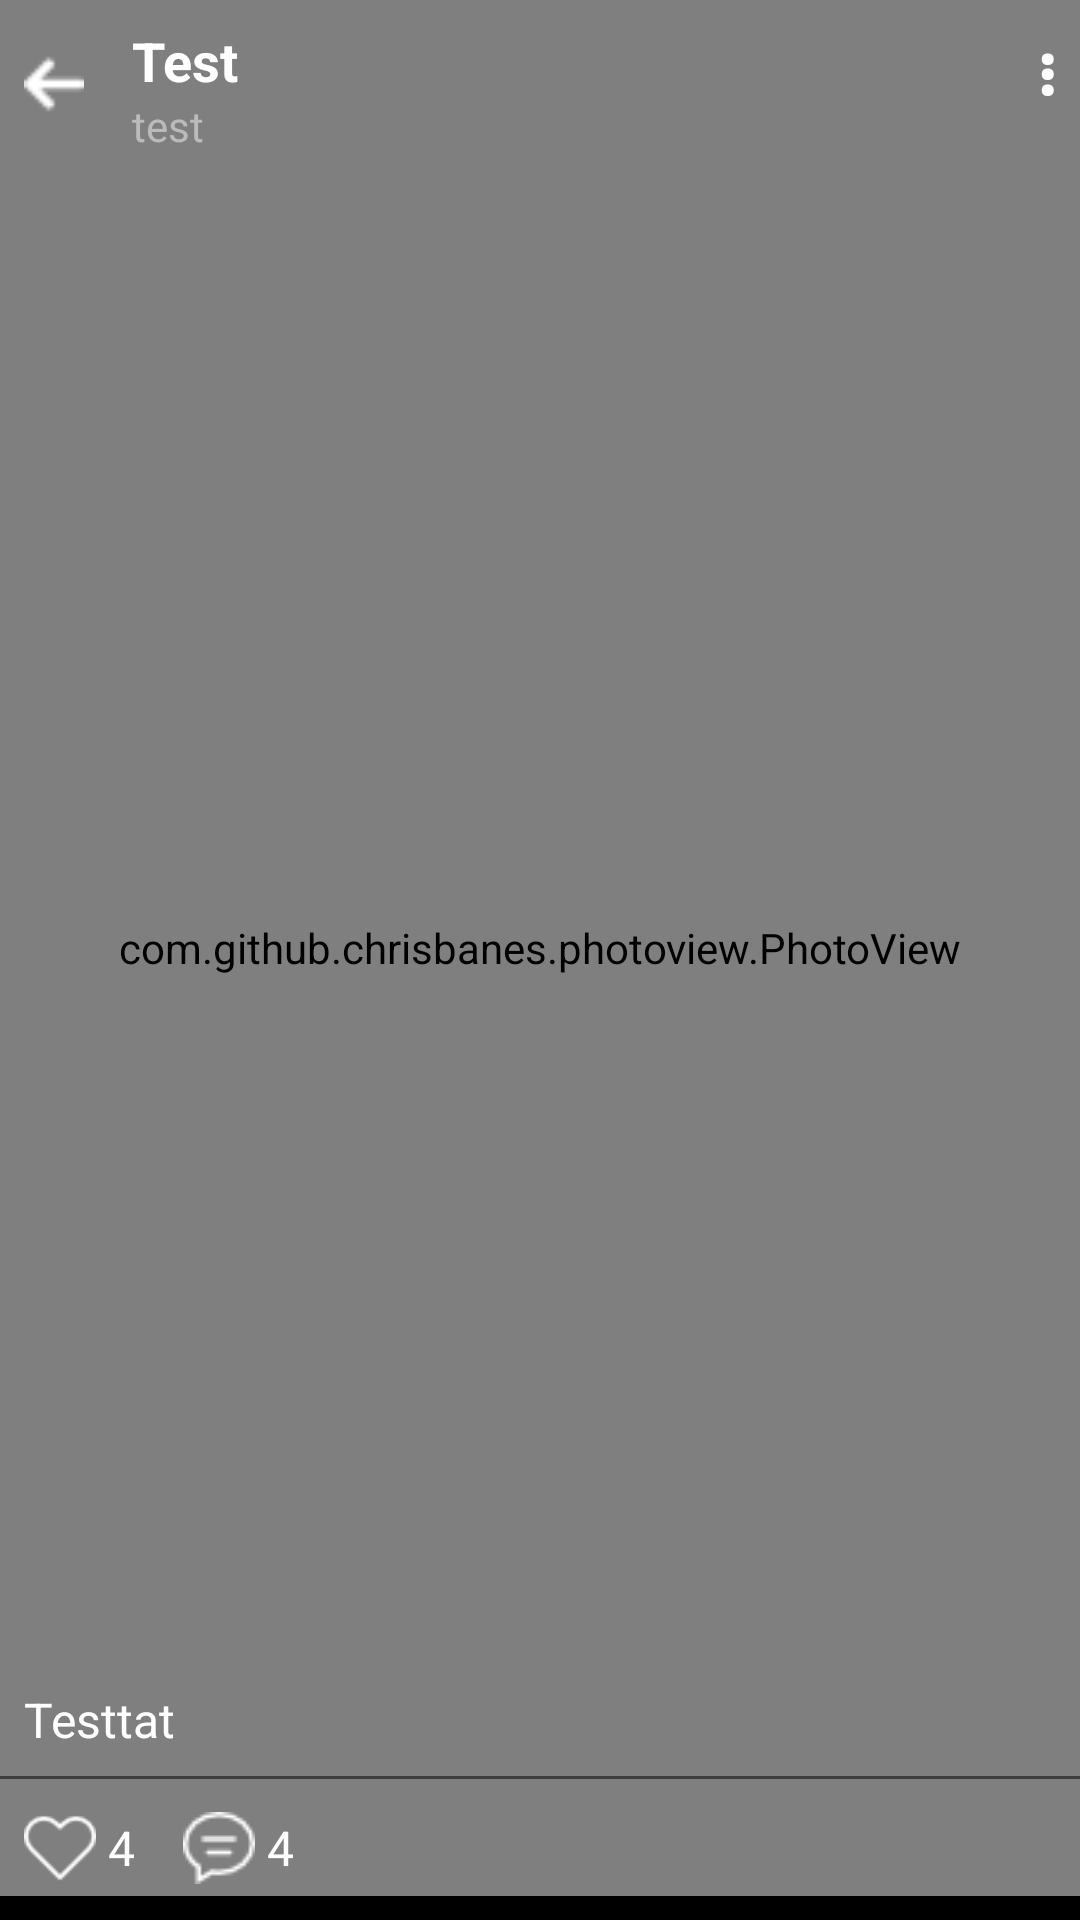

Icons on this 1080px×1920px Android screen, each with its box as (x1, y1, x2, y2):
comment: (183, 1812, 255, 1884)
left arrow: (24, 57, 84, 111)
love: (24, 1816, 96, 1880)
